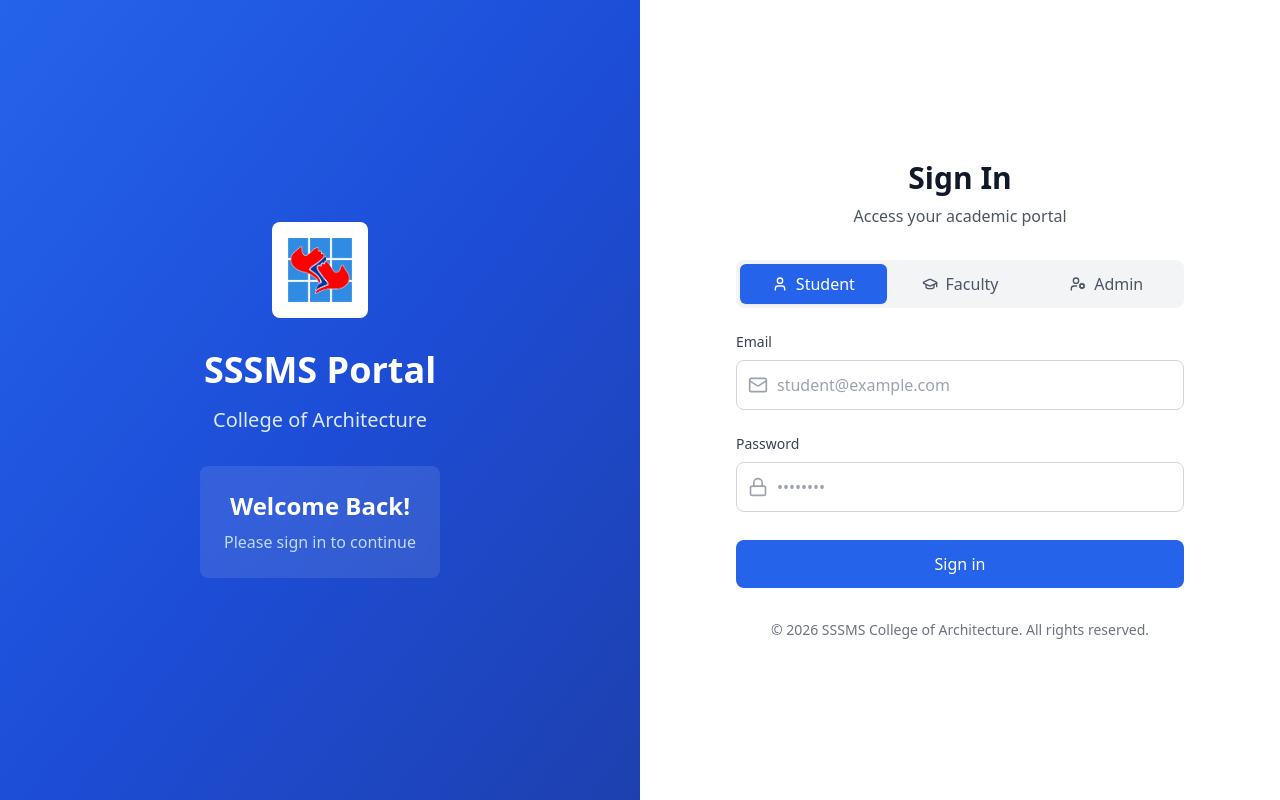
Test case: Login Component › shows error message on failed login (401)
The width and height of the screenshot is (1280, 800).
In the field labelled "Email": x=960, y=385 [736, 360, 1184, 410], type "test@example.com"
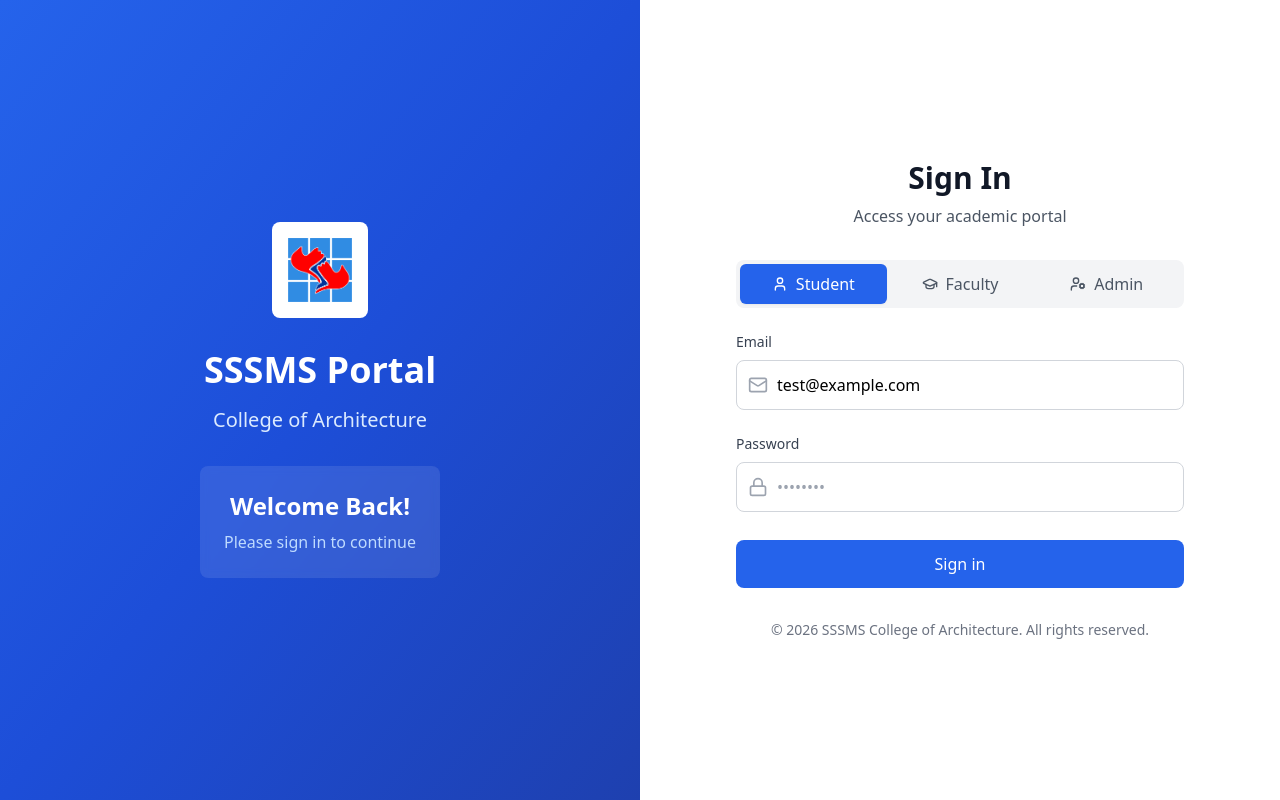
In the password field labelled "Password": x=960, y=487 [736, 462, 1184, 512], type "password123"
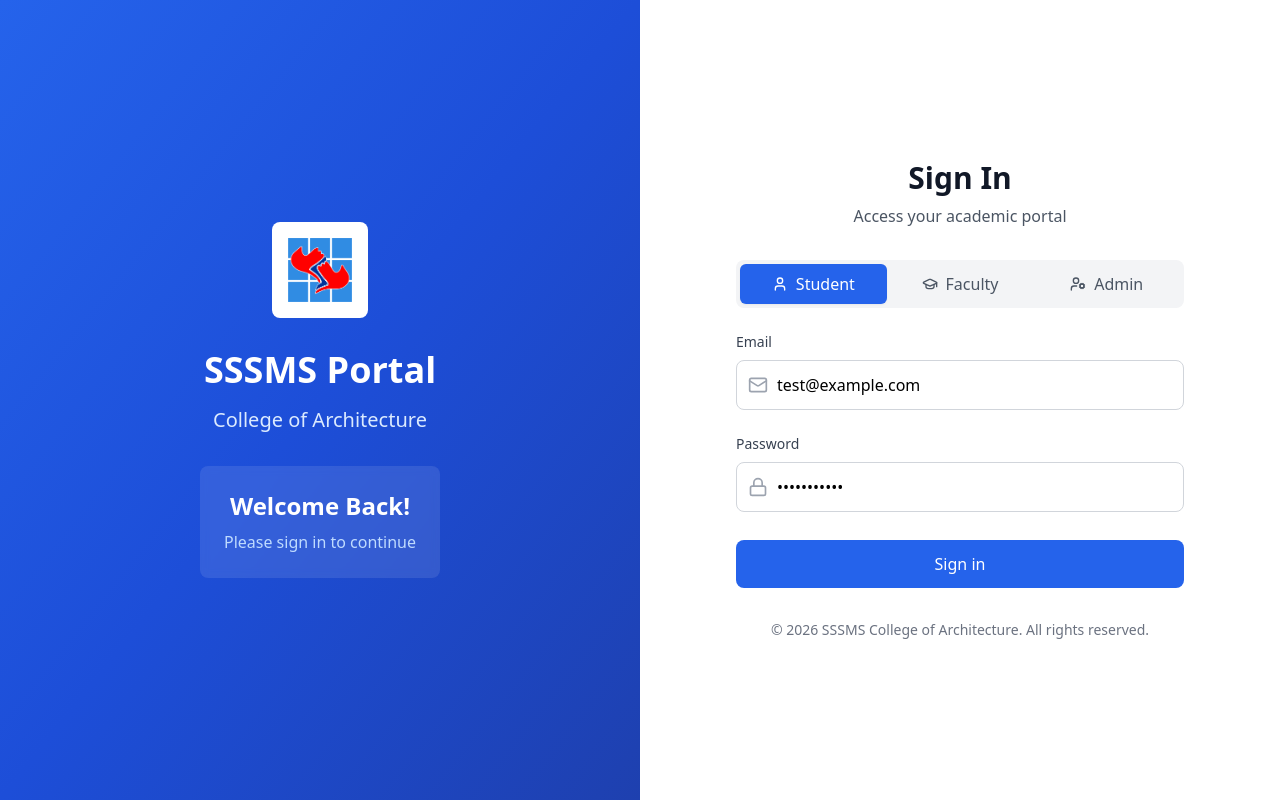
Click the button "Sign in": x=960, y=564 [736, 540, 1184, 588]
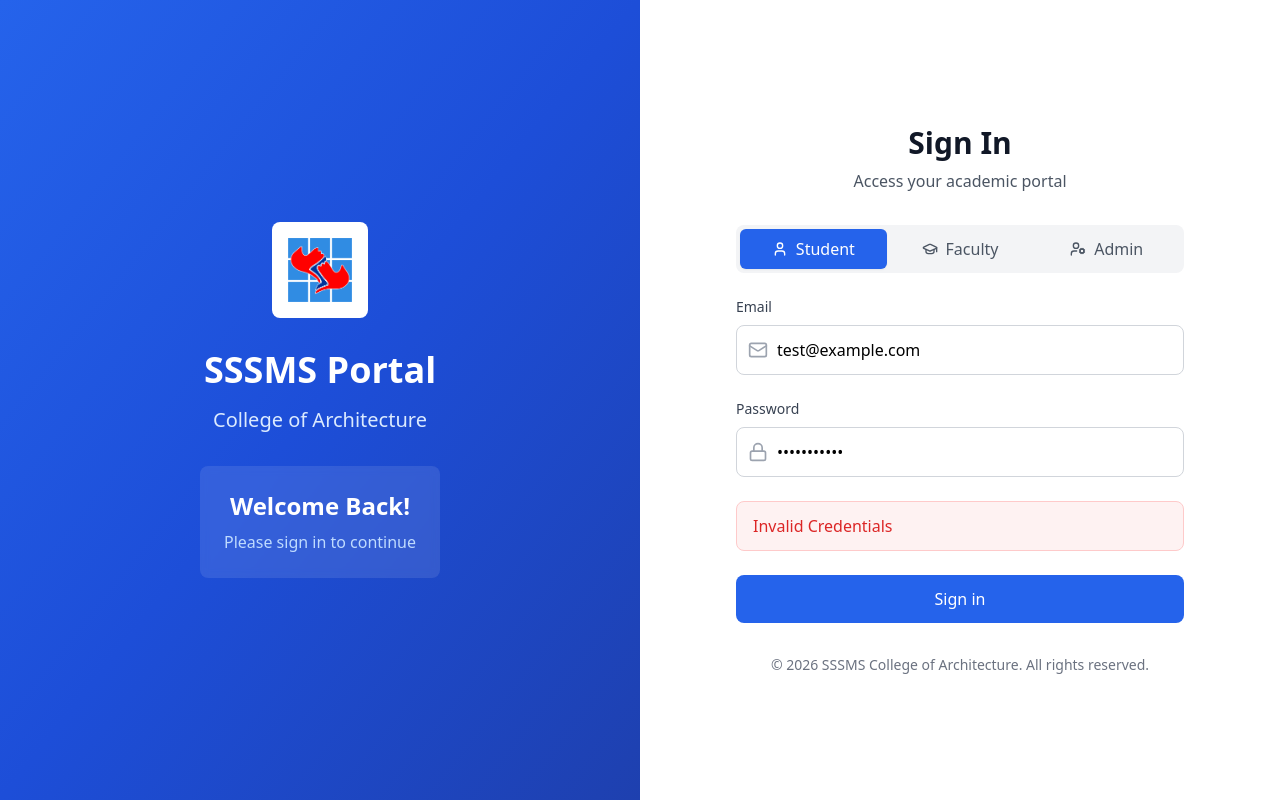
expect the text "Invalid Credentials" is shown: met, box [736, 501, 1184, 551]
